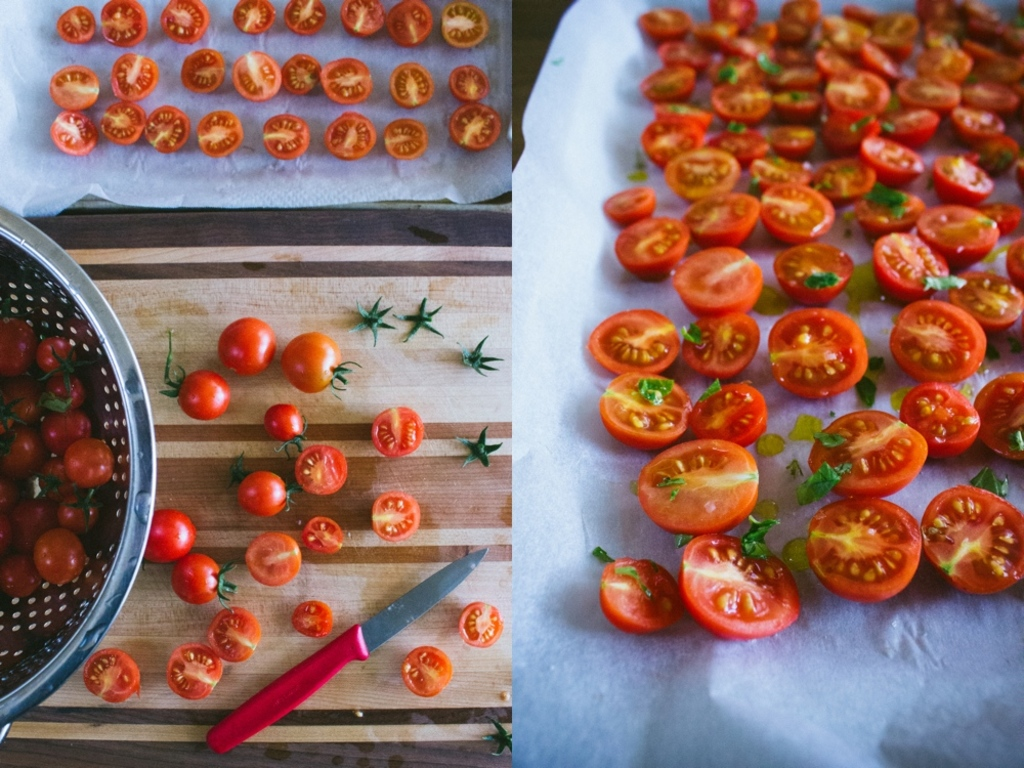Tomato: (594, 6, 1022, 636), (45, 3, 501, 162), (0, 310, 114, 620), (632, 440, 758, 535), (596, 552, 677, 634), (280, 327, 359, 395), (244, 535, 300, 602), (140, 505, 203, 561), (83, 642, 142, 701), (296, 438, 349, 496), (174, 639, 220, 704), (220, 317, 274, 372), (210, 608, 261, 665), (168, 551, 228, 592), (404, 646, 452, 697), (376, 401, 422, 453), (369, 491, 418, 539), (239, 471, 288, 518), (263, 405, 305, 452), (458, 602, 499, 650), (287, 599, 330, 636), (301, 516, 339, 555)
